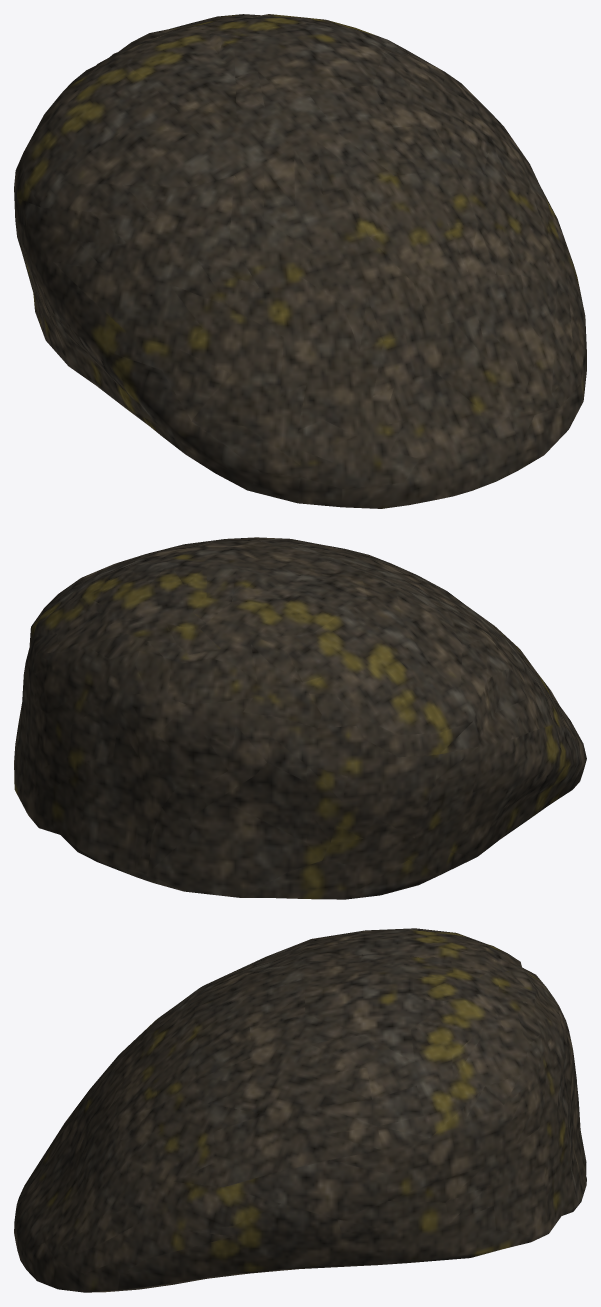
File: wear_flatcap2.glb
3 views of the same model, one above another, from view 1: azimuth 30°, elevation 25°; view 2: azimuth 150°, elevation 25°; view 3: azimuth 270°, elevation 25° (orthographic). The views are drawn at different scales.
Visible parts, largest first — view 1: mesh; view 2: mesh; view 3: mesh.
Boxes of the visible parts, x1,y1,x2,y2 form: mesh: (14,14,586,508); mesh: (14,537,586,899); mesh: (14,928,586,1292).
Bounding box in the file's own units: 0.1604 × 0.1 × 0.1838.
1 material, 1 textured.
